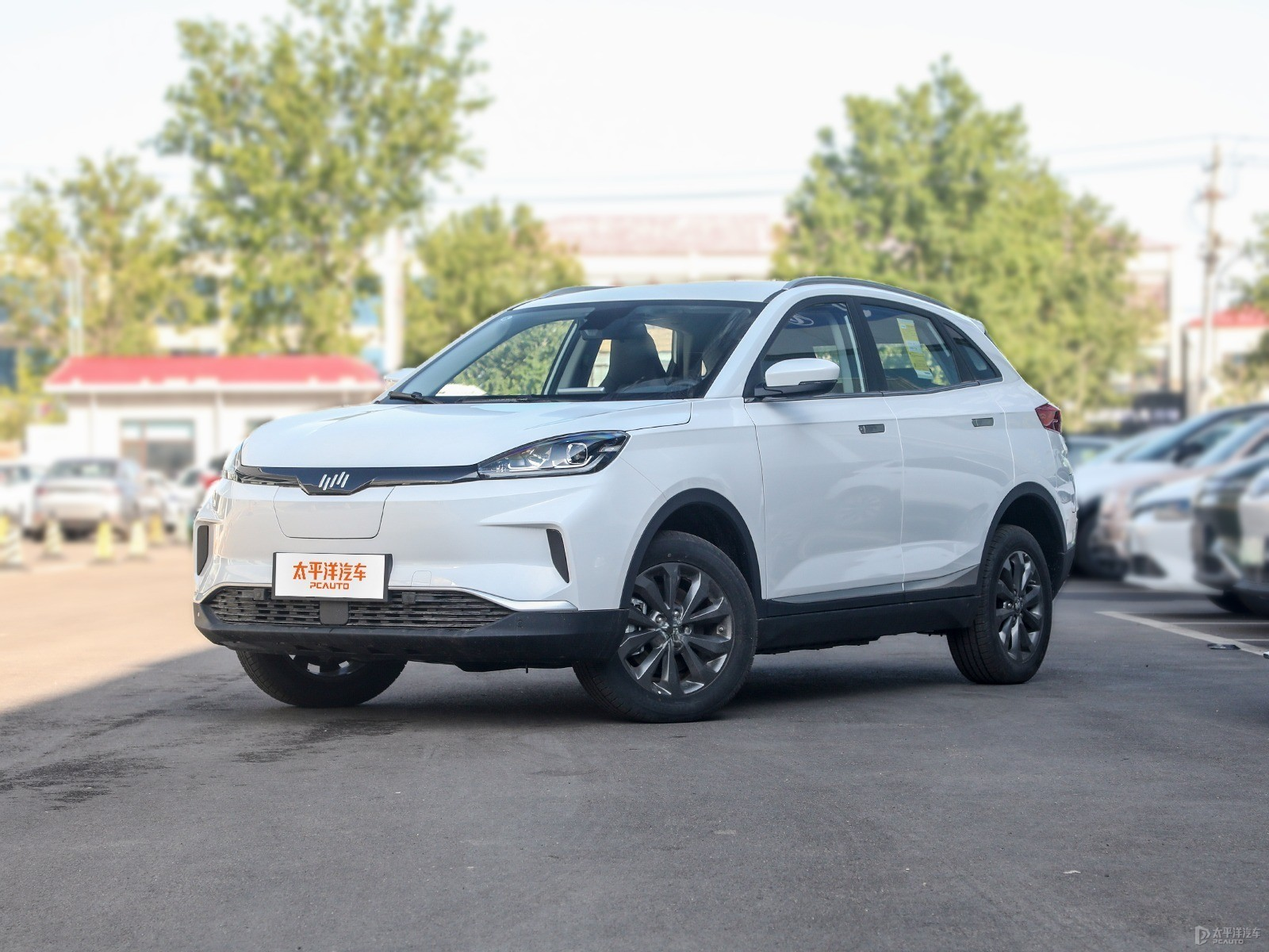WELTMEISTER: (319, 472, 349, 490)
